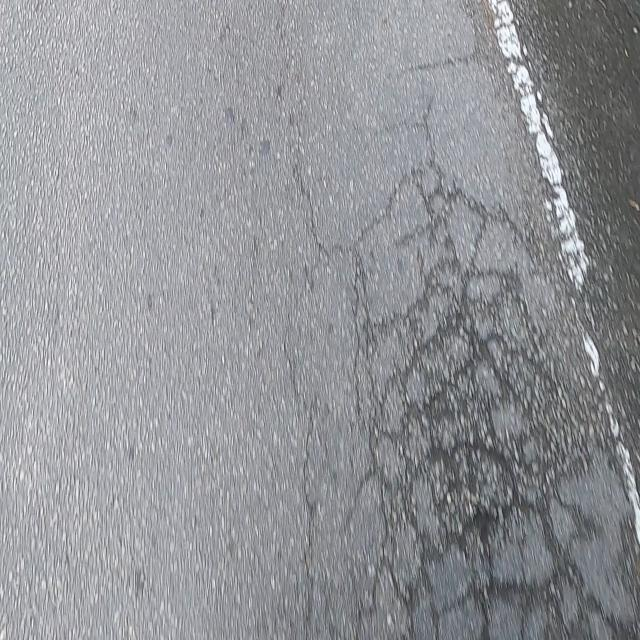Retak-Buaya: (354, 153, 640, 640)
